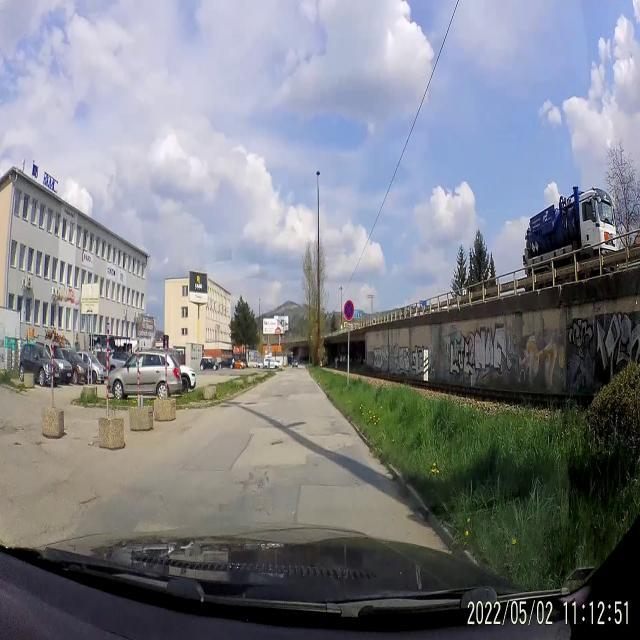Pothole: (71, 488, 100, 518), (243, 465, 271, 495), (268, 437, 286, 449)
